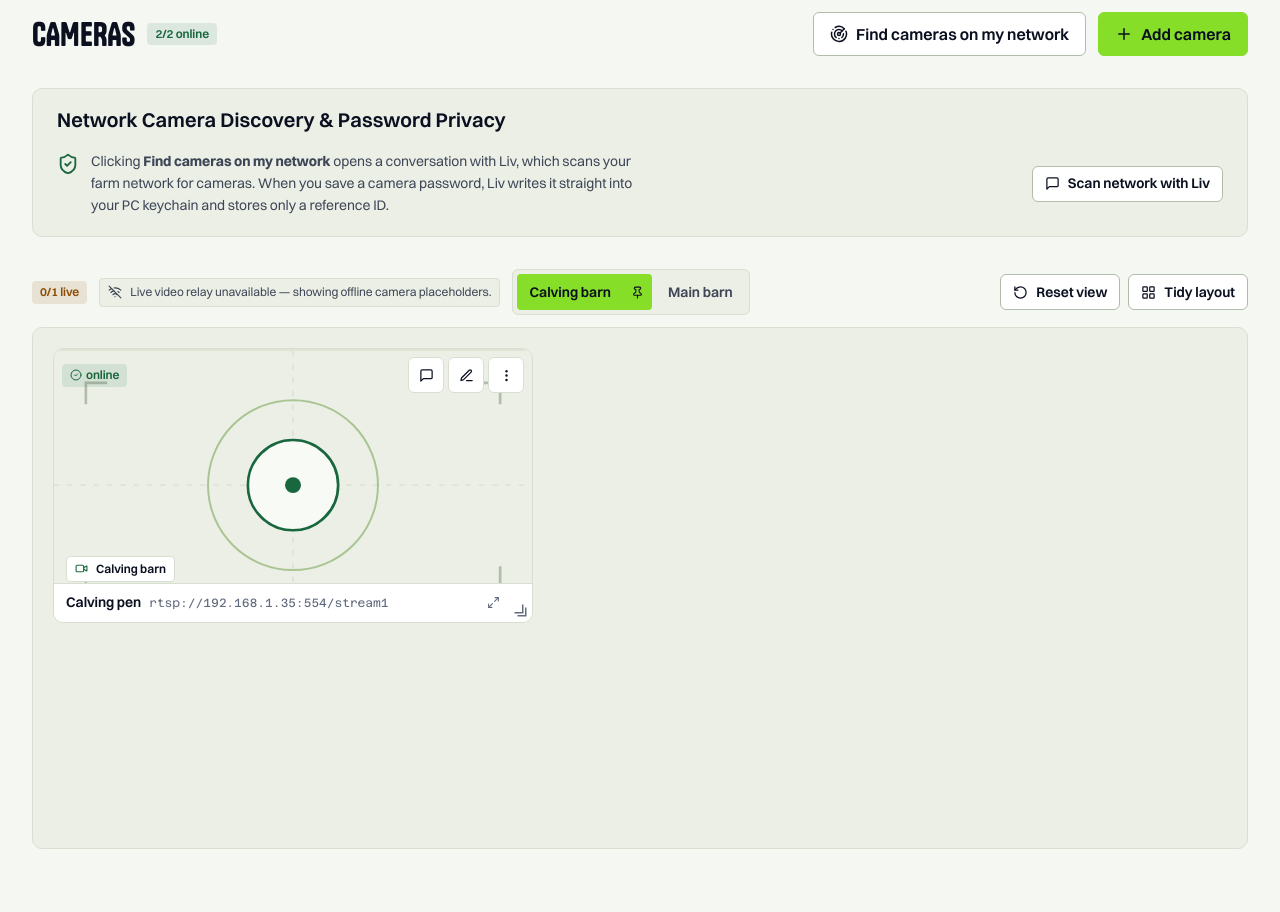
Test case: CamerasPage BarnMapCanvas, BarnSelector, and layout persistence › filters cameras by barn location, moves a camera between barns, and debounces layout saves
The image size is (1280, 912).
Later steps or results of the test are not shown.
Expected: the navigation bar with test id "camera-barn-selector" is shown, [512,270,750,316]
Expected: the element with test id "camera-tile-cam-calving" is shown, [53,348,533,623]
What coordinates should you click on to do the following:
click the button with test id "camera-barn-option-Main barn"
I would click on:
 (700, 292)
Its box is [656,274,745,310].
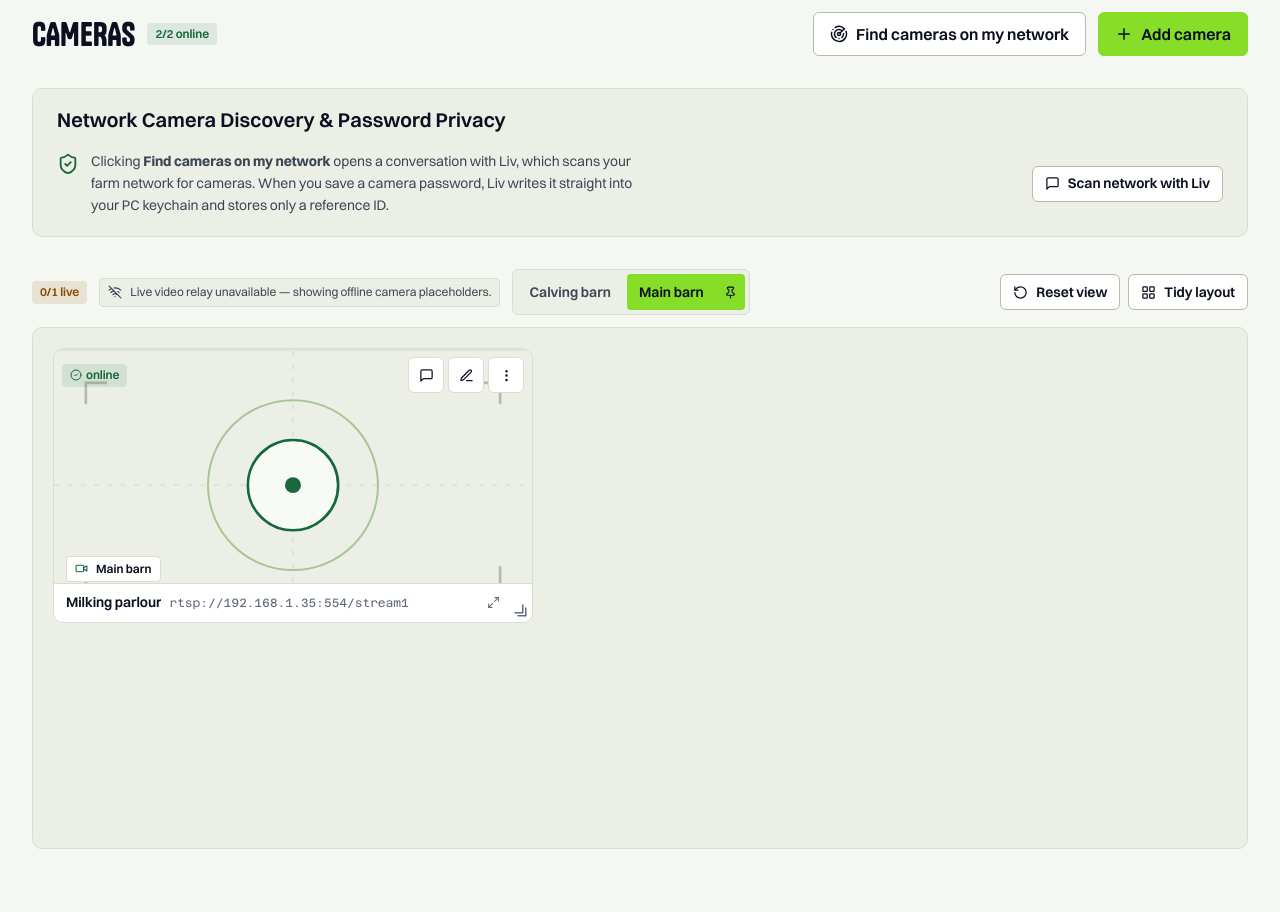
Now the element with test id "camera-tile-cam-parlour" is shown, box [53,348,533,623]
Now the element with test id "camera-tile-cam-calving" is gone
